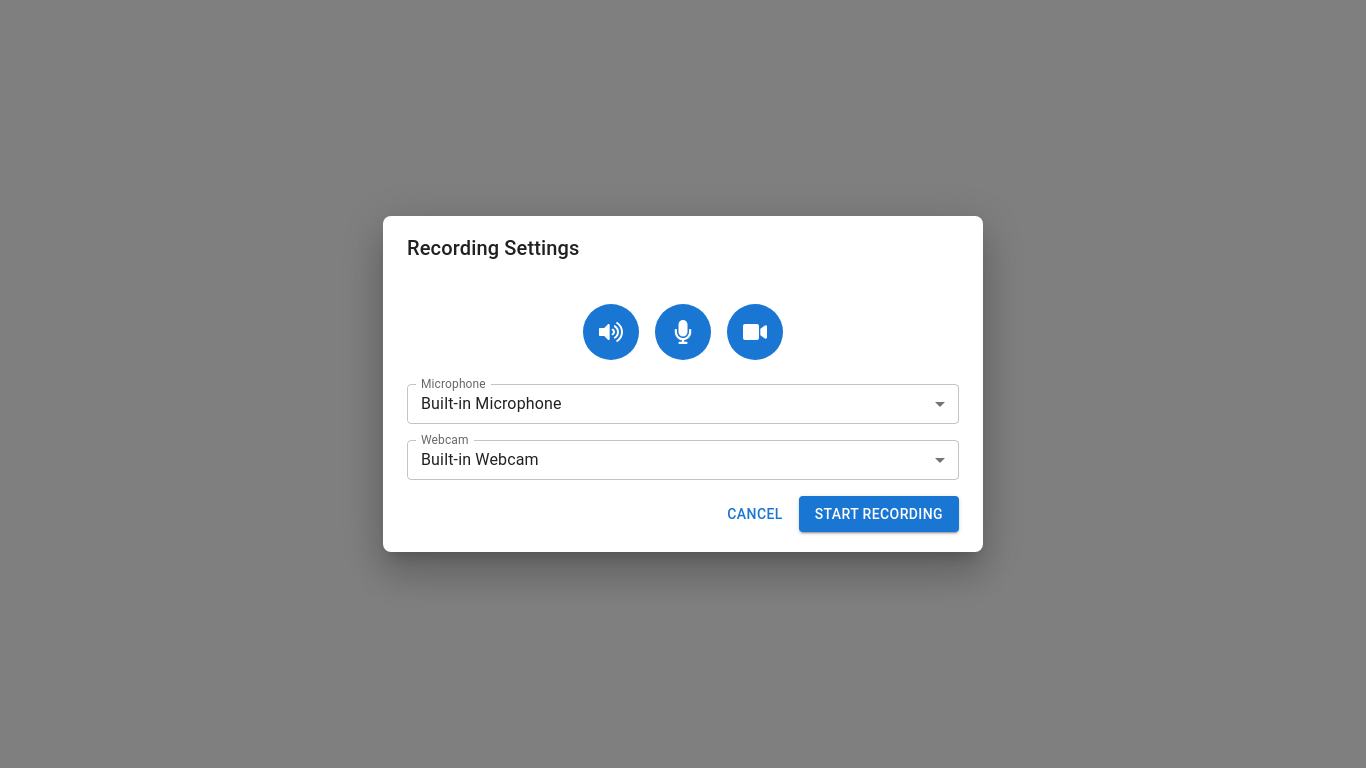
Scenario: RecordingSettingsModal - Icons and Device Selection › device selection dropdowns › hides microphone dropdown when microphone is disabled
Check: the element with test id "microphone-device-select" is shown, box [407,384,959,424]
# Disable microphone
What coordinates should you click on to do the following:
click the button with test id "microphone-toggle"
I would click on:
 (683, 332)
Its box is [655,304,711,360].
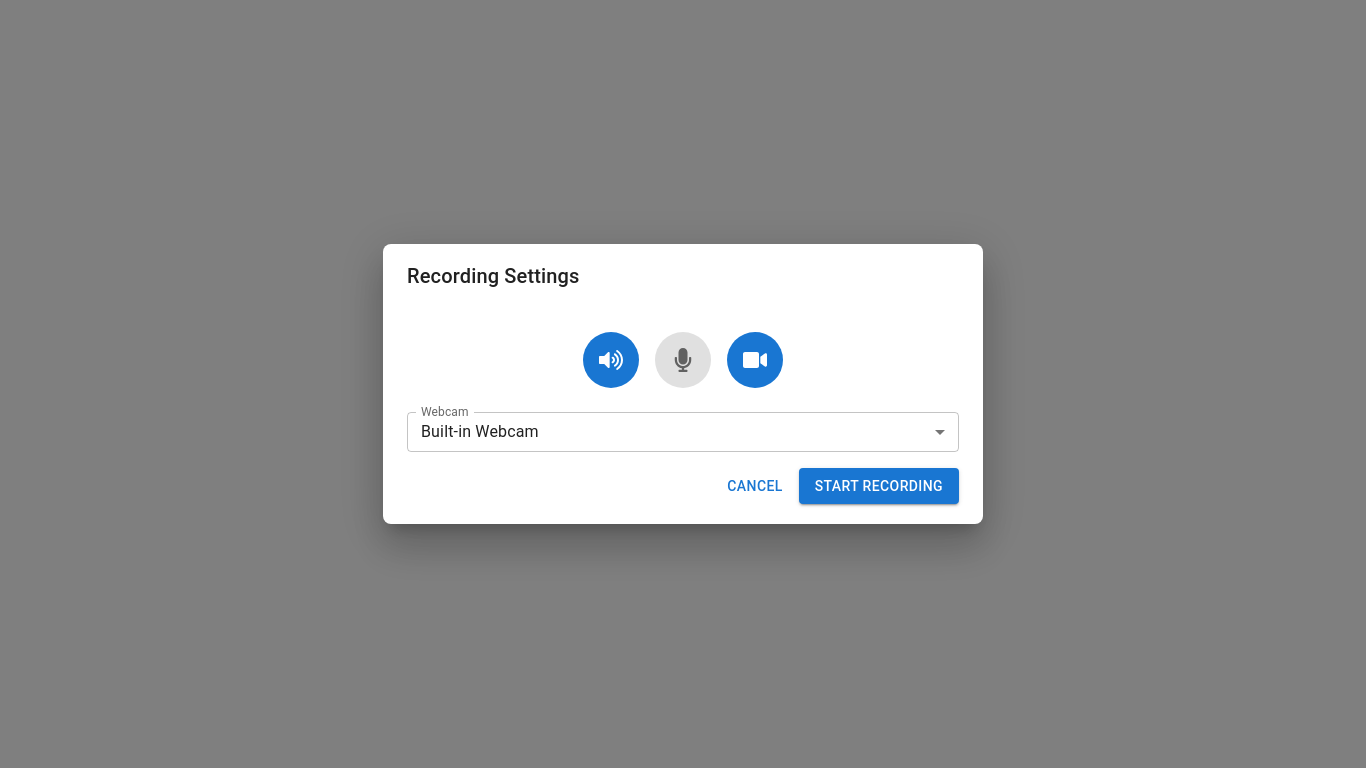
Check: the element with test id "microphone-device-select" is gone
